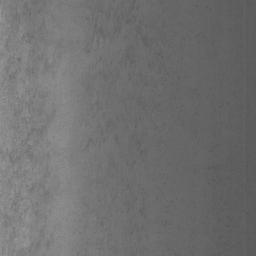Silk spot: (0, 0, 56, 256), (77, 0, 168, 96), (79, 97, 160, 168), (72, 202, 116, 256), (122, 179, 146, 241), (213, 197, 232, 248), (208, 165, 230, 185)
